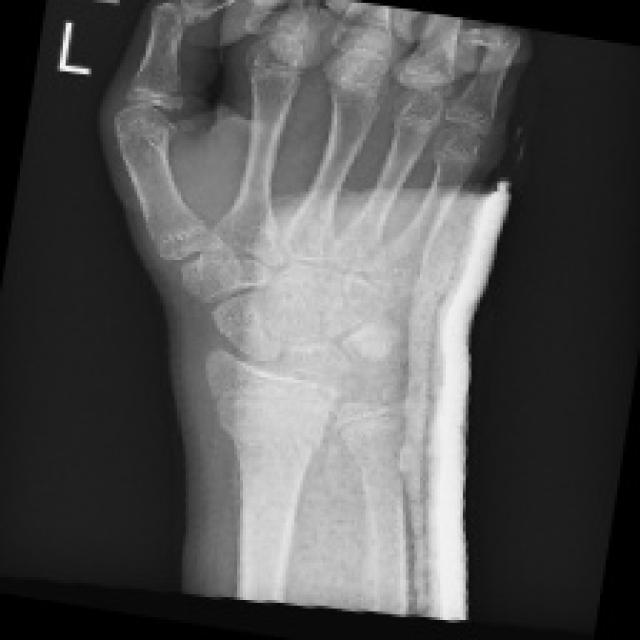fracture: (96, 45, 197, 152)
